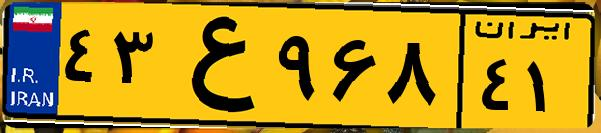1: (525, 38, 570, 115)
3: (110, 28, 158, 98)
4: (57, 26, 110, 100), (475, 38, 525, 113)
6: (330, 28, 385, 110)
8: (385, 28, 445, 110)
9: (270, 28, 330, 110)
ع: (158, 12, 270, 120)
